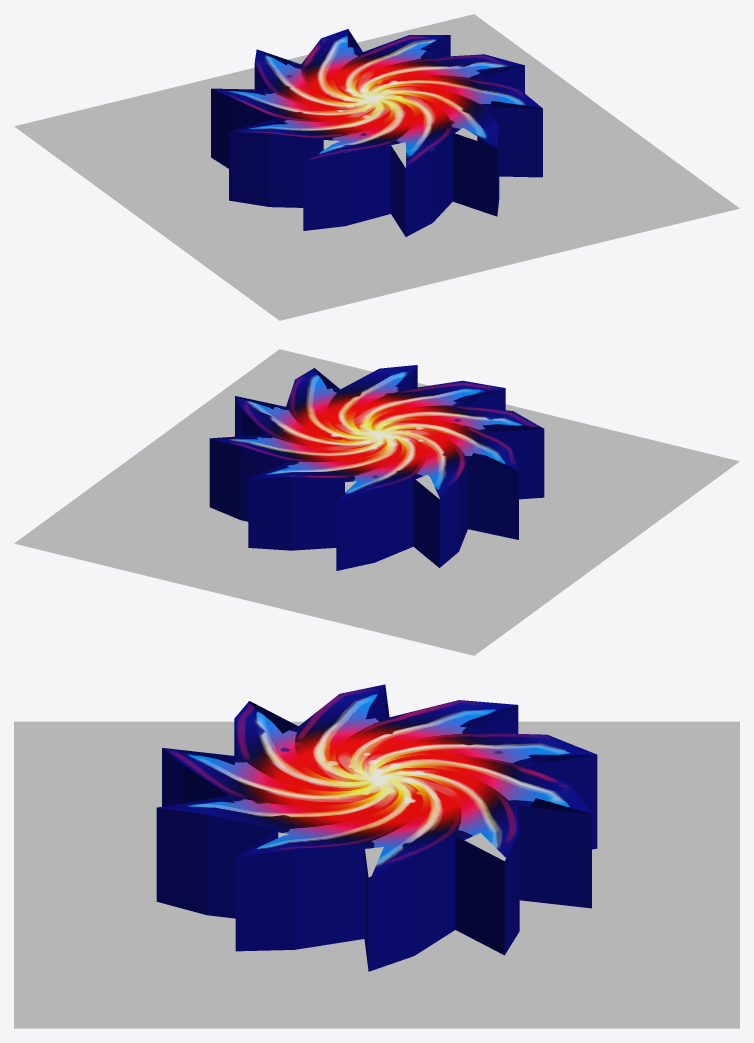
File: item_hole.FBX
3 renders of one model, top to bottom at view 1: azimuth 30°, elevation 25°; view 2: azimuth 150°, elevation 25°; view 3: azimuth 270°, elevation 25°, orthographic. The views are drawn at different scales.
Visible parts, largest first — view 1: Plane007, Cylinder025; view 2: Plane007, Cylinder025; view 3: Plane007, Cylinder025.
Boxes of the visible parts, x1,y1,x2,y2 form: Plane007: [14, 14, 739, 320]; Cylinder025: [211, 29, 542, 236]; Plane007: [14, 349, 739, 655]; Cylinder025: [209, 365, 544, 570]; Plane007: [14, 721, 739, 1028]; Cylinder025: [156, 684, 597, 971].
Size of the model in its own units: 13.65 by 2.45 by 13.65.
